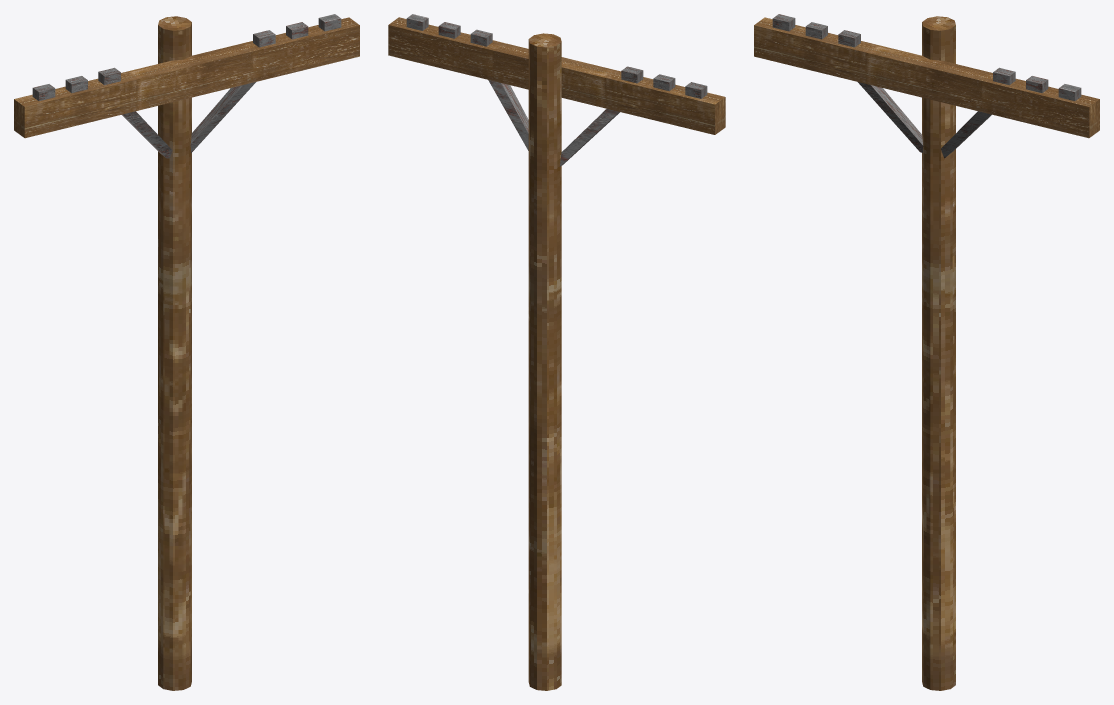
The model's file is telephone_pole.gltf.
3 renders of one model, left to right at view 1: azimuth 30°, elevation 25°; view 2: azimuth 150°, elevation 25°; view 3: azimuth 330°, elevation 25°, orthographic. The views are drawn at different scales.
Visible parts, largest first — view 1: Cylinder-col, Cube-col; view 2: Cylinder-col, Cube-col; view 3: Cylinder-col, Cube-col.
Boxes of the visible parts, box(x1,y1,x2,y2) form: Cylinder-col: box(158, 16, 191, 690); Cube-col: box(14, 14, 359, 158); Cylinder-col: box(528, 33, 561, 690); Cube-col: box(388, 14, 725, 166); Cylinder-col: box(922, 16, 955, 690); Cube-col: box(754, 14, 1099, 158).
Size of the model in its own units: 22.4 by 42.16 by 3.02.
2 materials, 2 textured.
